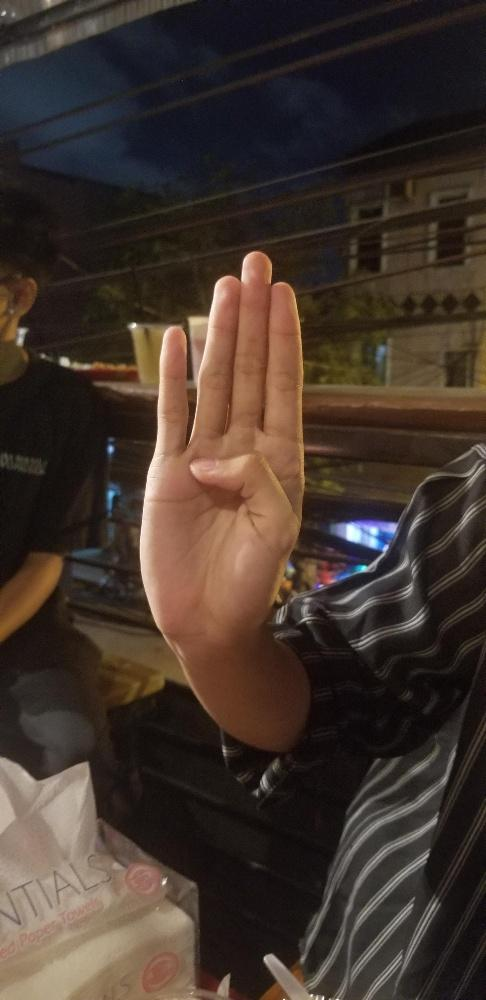b: (136, 244, 302, 642)
